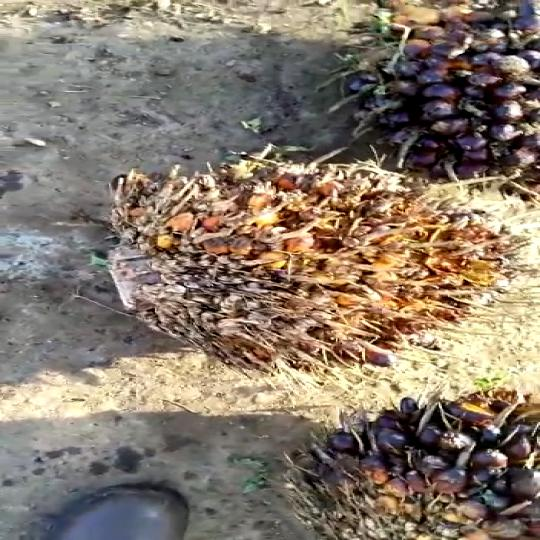terlalu masak: (41, 135, 540, 390)
